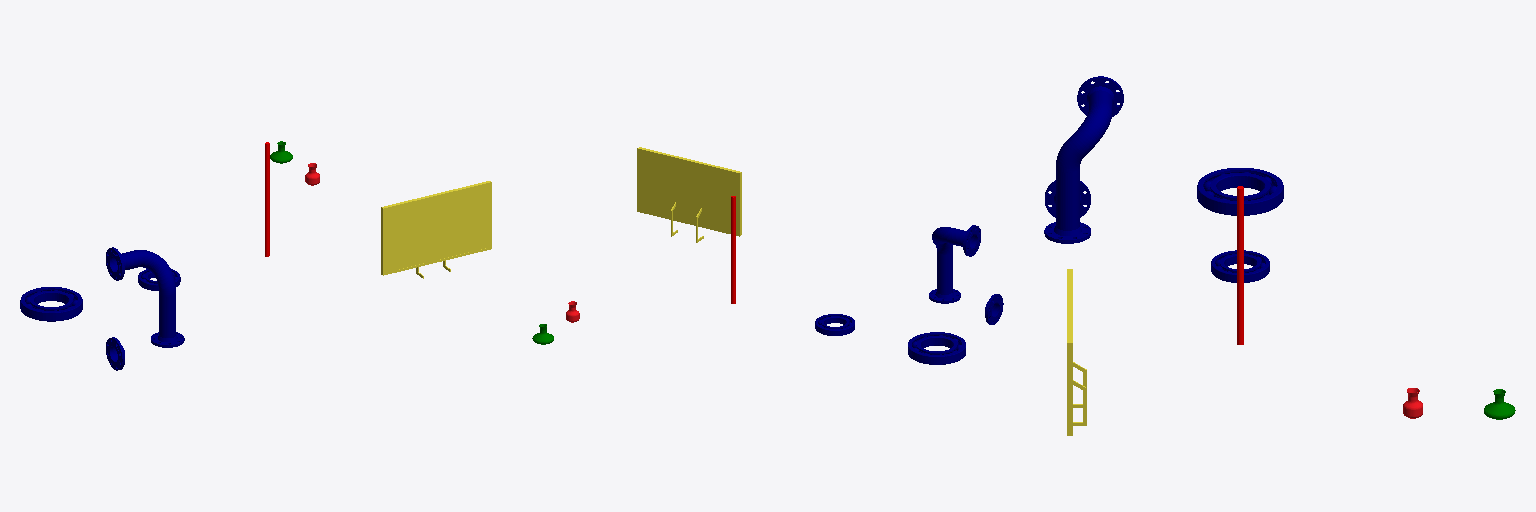
robot.urdf — Workpieces:
<robot name="Workpieces">

<material name="red">
    <color rgba="1 0 0 1"/>
  </material>

<link name="base_link">
<visual>
    <origin xyz="0 0 0.5" rpy="0 0 0" />
      <geometry>
        <cylinder length="1" radius="0.02"/>
      </geometry>
   <material name="red"/>
    </visual>
  </link>
 

<link name="flower_vase_170x118">
    <visual>
     <origin xyz="0 0 0" rpy="0 0 0" />
      <geometry>  
            <mesh filename="../12345/Workpieces/flower_vase_170x118.stl"/> 
      </geometry>  
 <material name="BIBA_red">
        <color rgba="0.929 0.109 0.141 0.8"/>
      </material> 
    </visual>
  </link>

<link name="flower_vase_162x185">
    <visual>
     <origin xyz="0 0 0" rpy="0 0 0" />
      <geometry>  
            <mesh filename="../12345/Workpieces/flower_vase_162x185.stl"/> 
      </geometry>  
 <material name="BIBA_gruen">
        <color rgba="0 0.501 0 0.6"/>
      </material> 
    </visual>
  </link>


<link name="Monitor_965x710">
    <visual>
     <origin xyz="0 0 0" rpy="0 0 0" />
      <geometry>  
            <mesh filename="../12345/Workpieces/Monitor_965x710.stl"/> 
      </geometry>  
    </visual>
  </link>


<link name="FittingPipe_694x392_PN40">
    <visual>
     <origin xyz="0 0 0" rpy="0 0 0" />
      <geometry>  
            <mesh filename="../12345/Workpieces/FittingPipe_694x392_PN40.stl"/> 
      </geometry>  
 <material name="BIBA_dunkelblau">
        <color rgba="0 0 0.5333 1"/>
      </material> 
    </visual>
  </link>

<link name="Flange_270x68_PN40">
    <visual>
     <origin xyz="0 0 0" rpy="0 0 0" />
      <geometry>  
            <mesh filename="../12345/Workpieces/Flange_270x68_PN40.stl"/> 
      </geometry>  
 <material name="BIBA_dunkelblau">
      <color rgba="0 0 0.5333 1"/>
      </material> 
    </visual>
  </link>

<link name="BallBearings_SKF6256_500x80">
    <visual>
     <origin xyz="0 0 0" rpy="0 0 0" />
      <geometry>  
            <mesh filename="../12345/Workpieces/BallBearings_SKF6256_500x80.stl"/> 
      </geometry>  
 <material name="BIBA_dunkelblau">
      <color rgba="0 0 0.5333 1"/>
      </material> 
    </visual>
  </link>

<link name="BallBearings_SKF6238_146x55">
    <visual>
     <origin xyz="0 0 0" rpy="0 0 0" />
      <geometry>  
            <mesh filename="../12345/Workpieces/BallBearings_SKF6238_146x55.stl"/> 
      </geometry>  
 <material name="BIBA_dunkelblau">
      <color rgba="0 0 0.5333 1"/>
      </material> 
    </visual>
  </link>

 <joint name="flower_vase_170x118TobaseLink" type="fixed"> 
    <parent link="base_link"/>
    <child link="flower_vase_170x118"/>
    <origin xyz="1 1 0"/>
  </joint>

 <joint name="flower_vase_162x185TobaseLink" type="fixed"> 
    <parent link="base_link"/>
    <child link="flower_vase_162x185"/>
    <origin xyz="1 1.5 0"/>
  </joint>


 <joint name="Monitor_965x710TobaseLink" type="fixed"> 
    <parent link="base_link"/>
    <child link="Monitor_965x710"/>
    <origin xyz="1 -1 0"/>
  </joint>


 <joint name="FittingPipe_694x392_PN40TobaseLink" type="fixed"> 
    <parent link="base_link"/>
    <child link="FittingPipe_694x392_PN40"/>
    <origin xyz="-1.5 -1 0"/>
  </joint>

 <joint name="Flange_270x68_PN40TobaseLink" type="fixed"> 
    <parent link="base_link"/>
    <child link="Flange_270x68_PN40"/>
    <origin xyz="-2 -1 0"/>
  </joint>

 <joint name="BallBearings_SKF6256_500x80TobaseLink" type="fixed"> 
    <parent link="base_link"/>
    <child link="BallBearings_SKF6256_500x80"/>
    <origin xyz="-2 -0 0"/>
  </joint>

   <joint name="BallBearings_SKF6238_146x55TobaseLink" type="fixed"> 
    <parent link="base_link"/>
    <child link="BallBearings_SKF6238_146x55"/>
    <origin xyz="-1 -0 0"/>
  </joint>


</robot>

--- What the picture shows (computed from the rendered views, not written in the file) ---
Views: 3 orthographic renders of the robot side by side, from view 1: azimuth 30°, elevation 25°; view 2: azimuth 150°, elevation 25°; view 3: azimuth 270°, elevation 25°.
Robot: Workpieces — 8 links, 7 joints (7 fixed); root link base_link; default pose: every joint at zero.
Visible links, largest first — view 1: Monitor_965x710, FittingPipe_694x392_PN40, BallBearings_SKF6256_500x80, base_link; view 2: Monitor_965x710, FittingPipe_694x392_PN40, BallBearings_SKF6256_500x80, BallBearings_SKF6238_146x55, base_link; view 3: FittingPipe_694x392_PN40, BallBearings_SKF6256_500x80, Monitor_965x710, BallBearings_SKF6238_146x55, base_link, Flange_270x68_PN40, flower_vase_162x185.
Link boxes in pixels (x1=…): Monitor_965x710: x1=381, y1=181, x2=491, y2=278; FittingPipe_694x392_PN40: x1=106, y1=247, x2=184, y2=347; BallBearings_SKF6256_500x80: x1=20, y1=287, x2=82, y2=321; base_link: x1=265, y1=142, x2=269, y2=256; Monitor_965x710: x1=637, y1=147, x2=741, y2=242; FittingPipe_694x392_PN40: x1=929, y1=225, x2=980, y2=303; BallBearings_SKF6256_500x80: x1=908, y1=332, x2=965, y2=364; BallBearings_SKF6238_146x55: x1=815, y1=314, x2=854, y2=335; base_link: x1=731, y1=196, x2=735, y2=303; FittingPipe_694x392_PN40: x1=1044, y1=76, x2=1123, y2=243; BallBearings_SKF6256_500x80: x1=1197, y1=168, x2=1283, y2=215; Monitor_965x710: x1=1067, y1=269, x2=1086, y2=435; BallBearings_SKF6238_146x55: x1=1211, y1=250, x2=1269, y2=282; base_link: x1=1237, y1=186, x2=1243, y2=344; Flange_270x68_PN40: x1=1045, y1=180, x2=1090, y2=217; flower_vase_162x185: x1=1484, y1=389, x2=1515, y2=419.
Bounding box of the posed robot: 3.75 × 2.73 × 1.14 m (x, y, z).
7 mesh visuals loaded from 7 distinct referenced files (7 binary STL).
